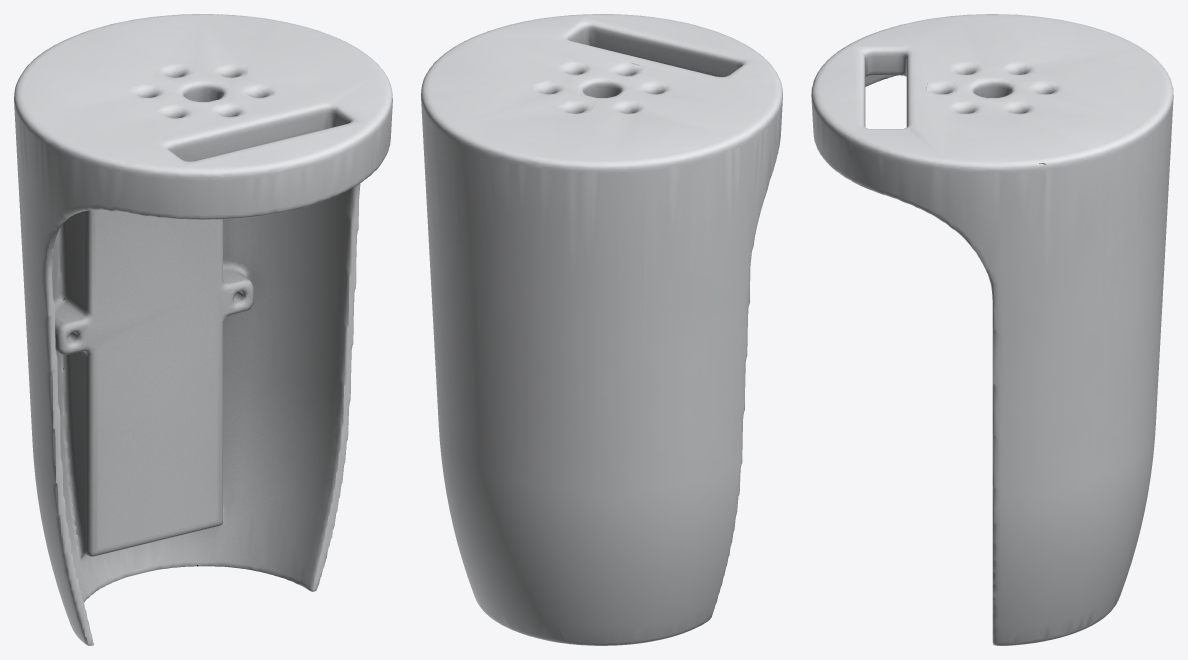
The model's file is right_forarm_lower_1.glb.
The picture shows the model from 3 angles, left to right: view 1: azimuth 30°, elevation 25°; view 2: azimuth 150°, elevation 25°; view 3: azimuth 270°, elevation 25°; orthographic projection. The views are drawn at different scales.
Parts seen in each view (by area): view 1: right_forarm_lower_1; view 2: right_forarm_lower_1; view 3: right_forarm_lower_1.
Boxes of the visible parts, left/top/right/bottom form: right_forarm_lower_1: left=14, top=14, right=392, bottom=645; right_forarm_lower_1: left=421, top=14, right=782, bottom=645; right_forarm_lower_1: left=811, top=14, right=1173, bottom=645.
Bounding box in the file's own units: 0.0729 × 0.1123 × 0.0729.
1 material, 1 textured.
